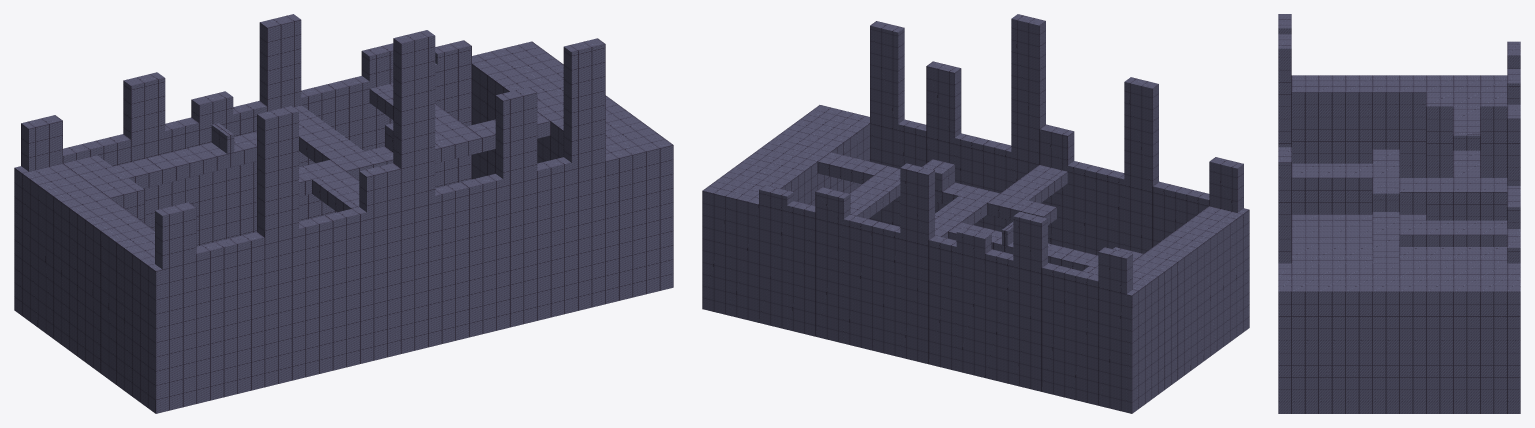
File: Module_6.fbx
The picture shows the model from 3 angles, left to right: view 1: azimuth 30°, elevation 25°; view 2: azimuth 150°, elevation 25°; view 3: azimuth 270°, elevation 25°; orthographic projection. The views are drawn at different scales.
Visible parts, largest first — view 1: Module_6; view 2: Module_6; view 3: Module_6.
Part boxes in pixels (x1=…): Module_6: x1=14, y1=14, x2=673, y2=413; Module_6: x1=702, y1=14, x2=1249, y2=413; Module_6: x1=1278, y1=14, x2=1520, y2=413.
Bounding box in the file's own units: 3800 × 2175 × 1800.
Materials: 1 (1 with a texture image).
